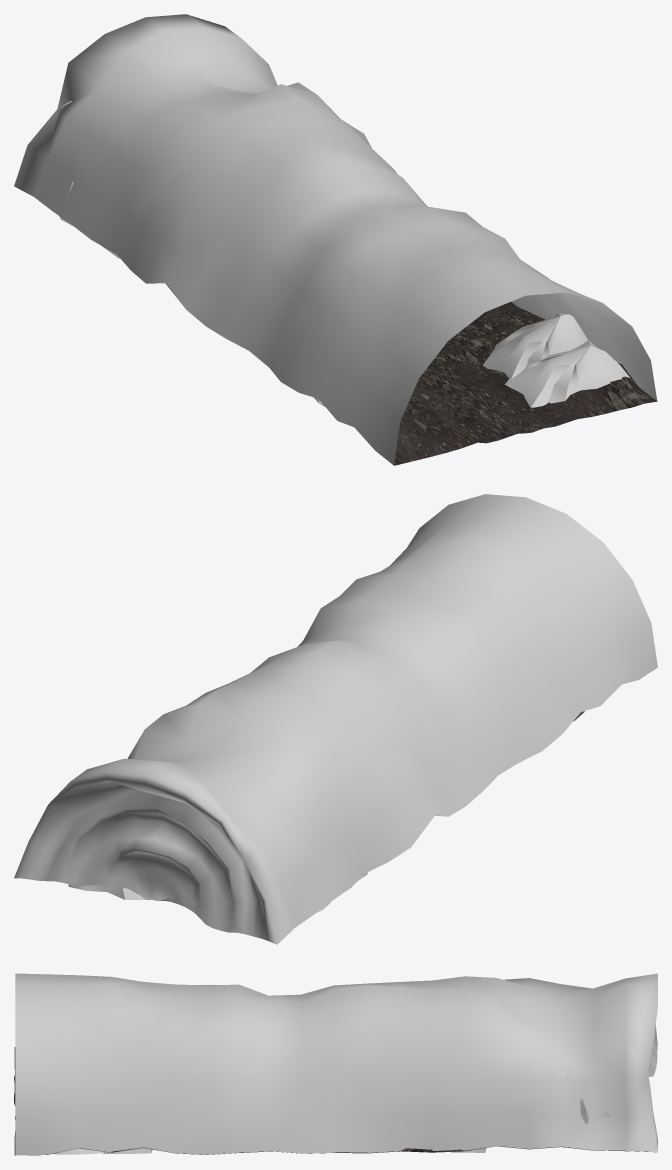
File: Caverna The Tutorial.FBX
The picture shows the model from 3 angles, top to bottom: view 1: azimuth 30°, elevation 25°; view 2: azimuth 150°, elevation 25°; view 3: azimuth 270°, elevation 25°; orthographic projection. The views are drawn at different scales.
Parts seen in each view (by area): view 1: Group47506, Group47507, Pyramid023, Pyramid027; view 2: Group47506; view 3: Group47506, Group47507.
Boxes of the visible parts, x1,y1,x2,y2 form: Group47506: (14, 14, 657, 465); Group47507: (166, 283, 657, 465); Pyramid023: (505, 340, 629, 407); Pyramid027: (483, 313, 587, 379); Group47506: (14, 494, 657, 944); Group47506: (15, 973, 657, 1155); Group47507: (14, 1047, 656, 1155).
Bounding box in the file's own units: 4076 × 2065 × 10021.
